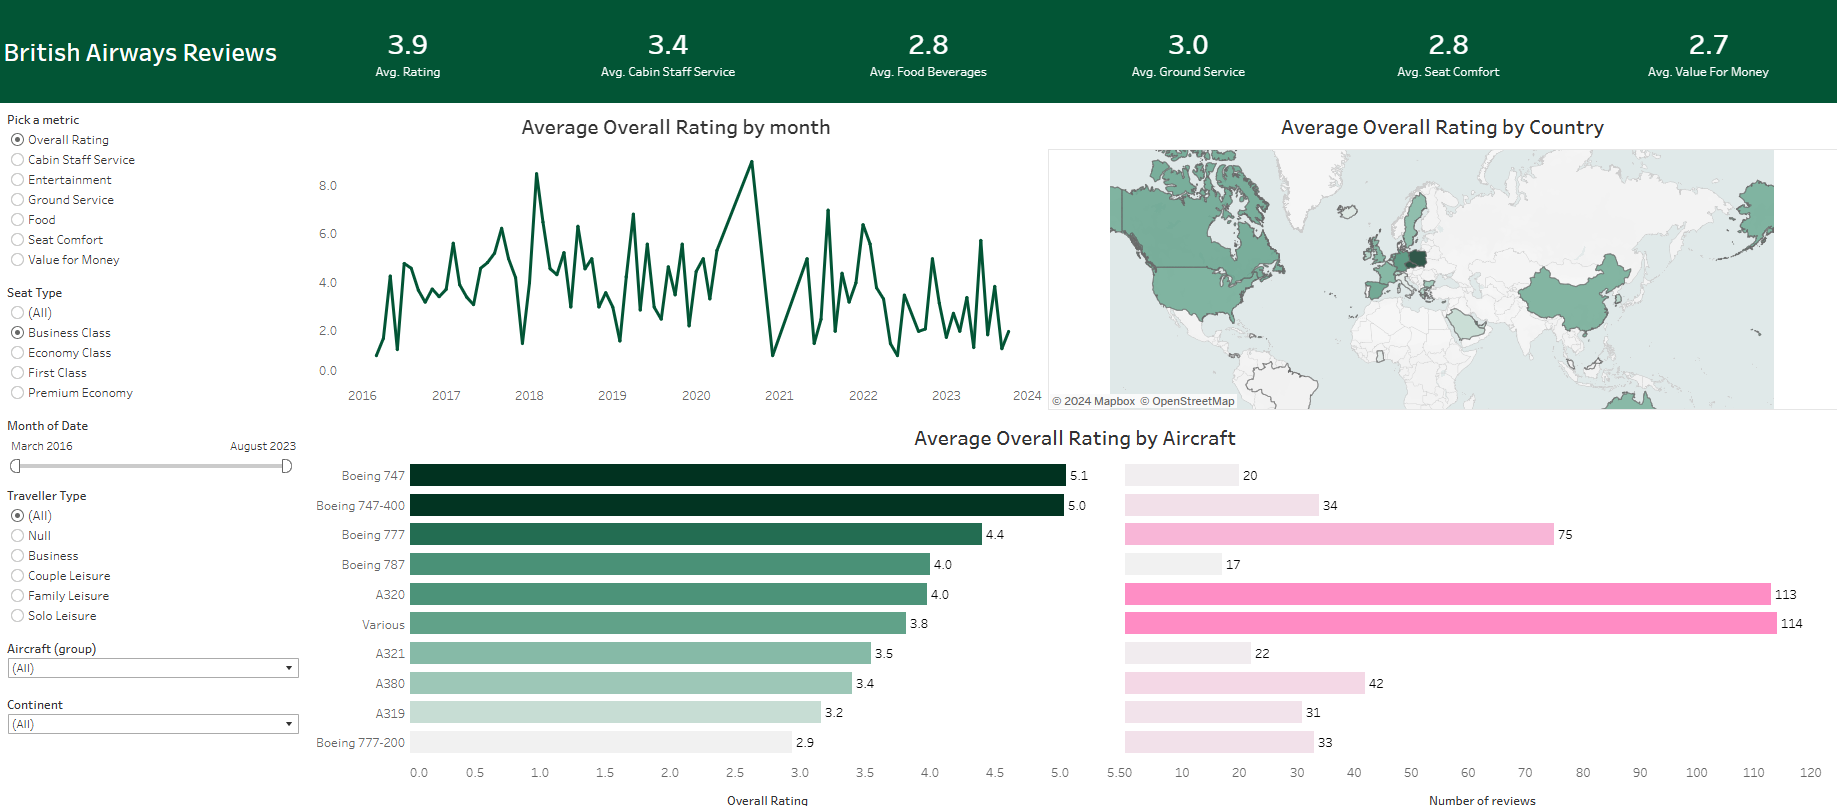

This screenshot's page, from the dashboard's own definition file:
{"tool":"tableau","page":{"name":"Dashboard 1","canvas":[1000,1000],"units":"permille","ordinal":0},"visuals":[{"type":"text","box":[1.2,2.5,149.1,126.1]},{"type":"worksheet","title":"summary","mark":"Automatic","box":[149.7,2.5,832.8,126.1]},{"type":"blank","box":[161.7,128.6,1.8,867.7]},{"type":"parameter","param":"[Parameters].[Parameter 1]","box":[2.4,132.3,161.1,224.7]},{"type":"worksheet","title":"month","mark":"Automatic","rows":["Calculation_877920520373608448"],"cols":["date"],"box":[166.6,132.3,390.5,374.5]},{"type":"worksheet","title":"Map","mark":"Automatic","box":[560.1,132.3,421.9,374.5]},{"type":"filter","title":"Map","param":"[federated.17zqi5h17ywu98103mpfj1i9dnvf].[none:seat_type:nk]","box":[2.4,357,161.1,188.5]},{"type":"worksheet","title":"aircraft","mark":"Automatic","cols":["Calculation_877920520373608448","Calculation_877920520373608448"],"box":[166.6,515.6,816.5,488.1]},{"type":"filter","title":"Map","param":"[federated.17zqi5h17ywu98103mpfj1i9dnvf].[tmn:date:qk]","box":[2.4,545.5,161.1,91.1]},{"type":"filter","title":"Map","param":"[federated.17zqi5h17ywu98103mpfj1i9dnvf].[none:traveller_type:nk]","box":[2.4,636.7,161.1,217.2]},{"type":"filter","title":"Map","param":"[federated.17zqi5h17ywu98103mpfj1i9dnvf].[Aircraft (group)]","box":[2.4,853.9,161.1,76.2]}]}

Visuals, with their boxes on the dashboard's canvas, which has no fixed pixel size, in thousandths of its width and height (x1, y1, x2, y2). These are canvas units, not pixel positions in the 1837x806 screenshot, which may show the page scaled, cropped or inside an application window:
text: 1/2/150/129
"summary" worksheet: 150/2/982/129
blank: 162/129/164/996
parameter: 2/132/164/357
"month" worksheet: 167/132/557/507
"Map" worksheet: 560/132/982/507
"Map" filter: 2/357/164/546
"aircraft" worksheet: 167/516/983/1004
"Map" filter: 2/546/164/637
"Map" filter: 2/637/164/854
"Map" filter: 2/854/164/930
